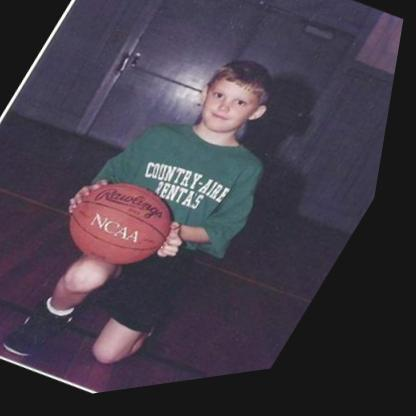basketball: (57, 165, 201, 295)
